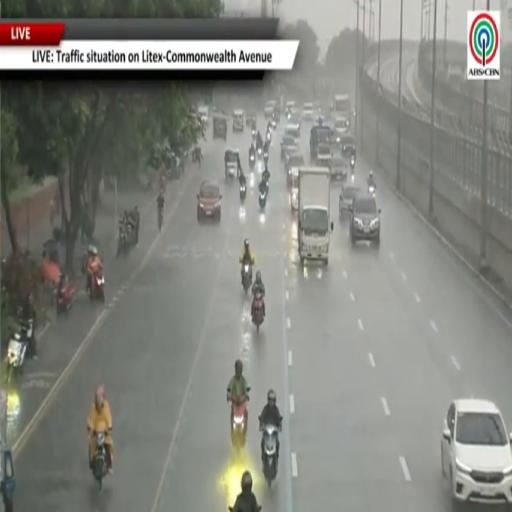bus: (333, 94, 350, 119)
car: (441, 398, 511, 509), (350, 195, 380, 246), (197, 181, 221, 220), (339, 186, 362, 218), (285, 152, 305, 187), (330, 155, 349, 181), (337, 134, 356, 157), (225, 149, 239, 180), (281, 134, 297, 161), (316, 143, 332, 167), (285, 152, 305, 171), (213, 115, 227, 140), (334, 116, 350, 137), (285, 124, 300, 145), (233, 109, 244, 132), (302, 102, 315, 120), (288, 111, 302, 127), (264, 101, 276, 119), (198, 106, 209, 125), (246, 112, 257, 127), (285, 101, 296, 116)
motorcycle: (6, 319, 34, 383), (261, 425, 279, 486), (230, 397, 247, 450), (92, 431, 107, 489), (117, 222, 136, 257), (57, 282, 74, 315), (87, 272, 104, 302), (252, 293, 263, 331), (242, 264, 251, 293), (259, 189, 267, 210), (158, 208, 163, 232), (240, 184, 247, 201), (249, 153, 255, 168), (368, 185, 375, 197), (350, 155, 355, 170), (263, 151, 268, 165), (271, 118, 276, 129), (257, 147, 262, 158), (267, 131, 271, 143), (252, 128, 256, 139), (351, 172, 354, 183), (228, 506, 234, 511)
truck: (297, 167, 333, 264)
